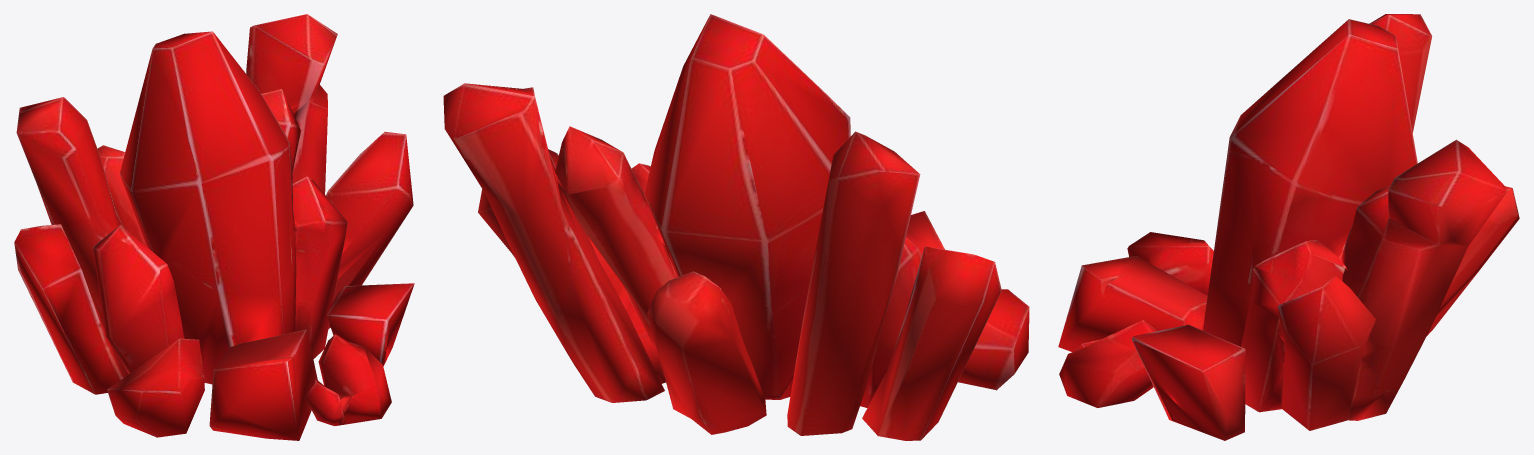
File: crystal-red.glb
The picture shows the model from 3 angles, left to right: view 1: azimuth 30°, elevation 25°; view 2: azimuth 150°, elevation 25°; view 3: azimuth 270°, elevation 25°; orthographic projection. The views are drawn at different scales.
Bounding box in the file's own units: 1.9 × 1.4 × 1.73.
1 material, 1 textured.
